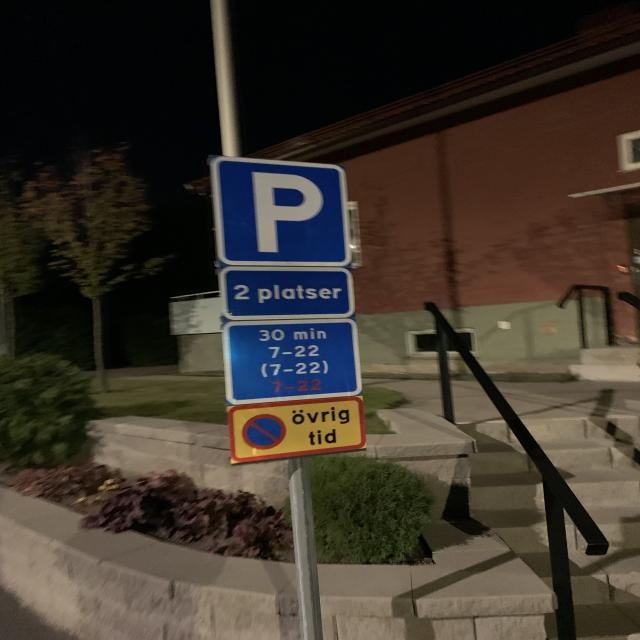P-skylt: (208, 155, 355, 270)
